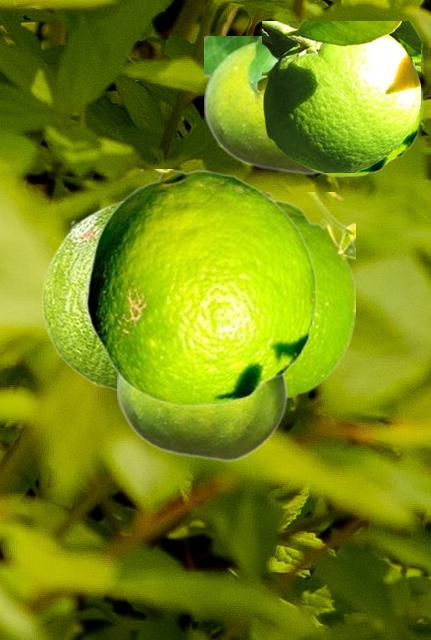dalandan: (86, 169, 316, 406), (262, 21, 419, 171), (265, 192, 354, 399), (204, 36, 319, 174), (41, 201, 119, 391), (117, 374, 287, 461), (312, 76, 422, 176)
